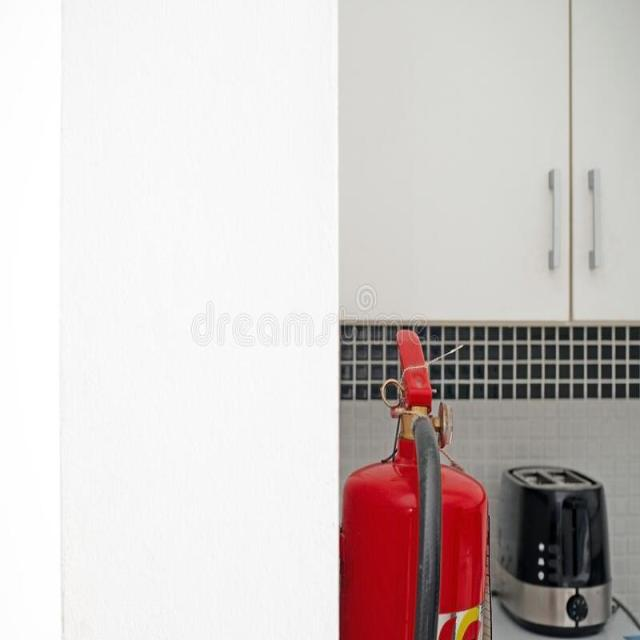fire_extinguisher: (334, 318, 493, 639)
